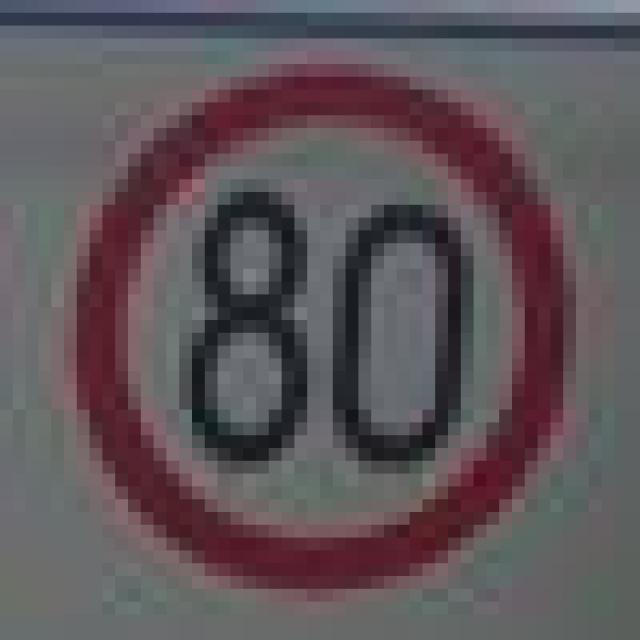SPEED_LIMIT_80: (51, 51, 563, 589)
